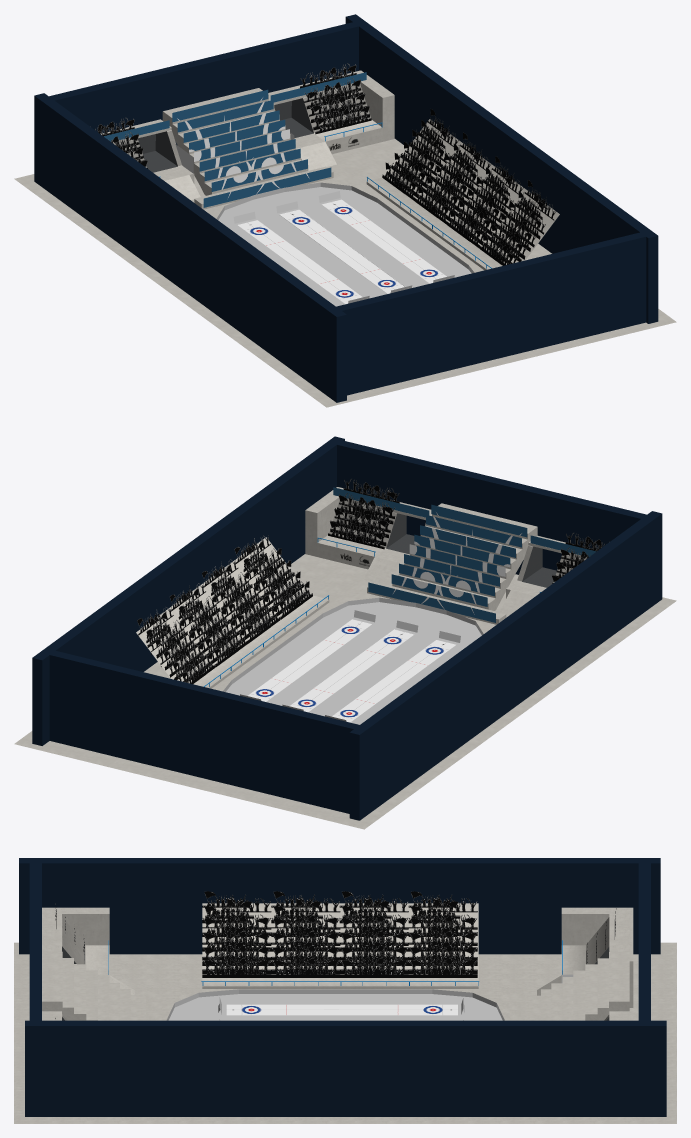
The model's file is rink_stage.FBX.
3 views of the same model, one above another, from view 1: azimuth 30°, elevation 25°; view 2: azimuth 150°, elevation 25°; view 3: azimuth 270°, elevation 25° (orthographic). The views are drawn at different scales.
Visible parts, largest first — view 1: Box028, Box030, Box029, Box031, Object001, Plane007, Plane2129, Box035, Box034, Box033, icefloor001, icefloor002 (+19 smaller); view 2: Box028, Box031, Box029, Box030, Object001, Plane007, Plane2445, Box051, Box050, Box052, icefloor001, icefloor002 (+19 smaller); view 3: Box029, Box028, Plane007, Object001, Box034, Box050, Box033, Box052, icefloor002, Box046, Box049, Box047 (+15 smaller).
Part boxes in pixels (x1=…): Box028: x1=34, y1=93, x2=346, y2=402; Box030: x1=330, y1=232, x2=653, y2=395; Box029: x1=345, y1=14, x2=658, y2=323; Box031: x1=43, y1=20, x2=366, y2=145; Object001: x1=216, y1=182, x2=474, y2=306; Plane007: x1=14, y1=139, x2=676, y2=407; Plane2129: x1=104, y1=72, x2=366, y2=207; Box035: x1=268, y1=70, x2=394, y2=170; Box034: x1=162, y1=88, x2=333, y2=209; Box033: x1=101, y1=119, x2=200, y2=199; icefloor001: x1=322, y1=199, x2=446, y2=283; icefloor002: x1=238, y1=220, x2=362, y2=304; Box028: x1=349, y1=511, x2=662, y2=820; Box031: x1=43, y1=648, x2=366, y2=813; Box029: x1=32, y1=436, x2=344, y2=745; Box030: x1=333, y1=439, x2=652, y2=574; Object001: x1=223, y1=597, x2=483, y2=724; Plane007: x1=14, y1=554, x2=676, y2=829; Plane2445: x1=333, y1=487, x2=596, y2=622; Box051: x1=305, y1=487, x2=431, y2=585; Box050: x1=367, y1=503, x2=537, y2=624; Box052: x1=499, y1=536, x2=586, y2=615; icefloor001: x1=248, y1=619, x2=371, y2=701; icefloor002: x1=332, y1=640, x2=455, y2=722; Box029: x1=25, y1=1020, x2=666, y2=1116; Box028: x1=19, y1=858, x2=660, y2=954; Plane007: x1=14, y1=942, x2=676, y2=1123; Object001: x1=166, y1=989, x2=504, y2=1020; Box034: x1=509, y1=952, x2=629, y2=1020; Box050: x1=42, y1=951, x2=161, y2=1020; Box033: x1=537, y1=907, x2=633, y2=1007; Box052: x1=42, y1=907, x2=134, y2=995; icefloor002: x1=226, y1=1004, x2=457, y2=1015; Box046: x1=201, y1=903, x2=272, y2=988; Box049: x1=408, y1=903, x2=479, y2=988; Box047: x1=270, y1=903, x2=341, y2=988.
Size of the model in its own units: 8250 by 1955 by 12750.
